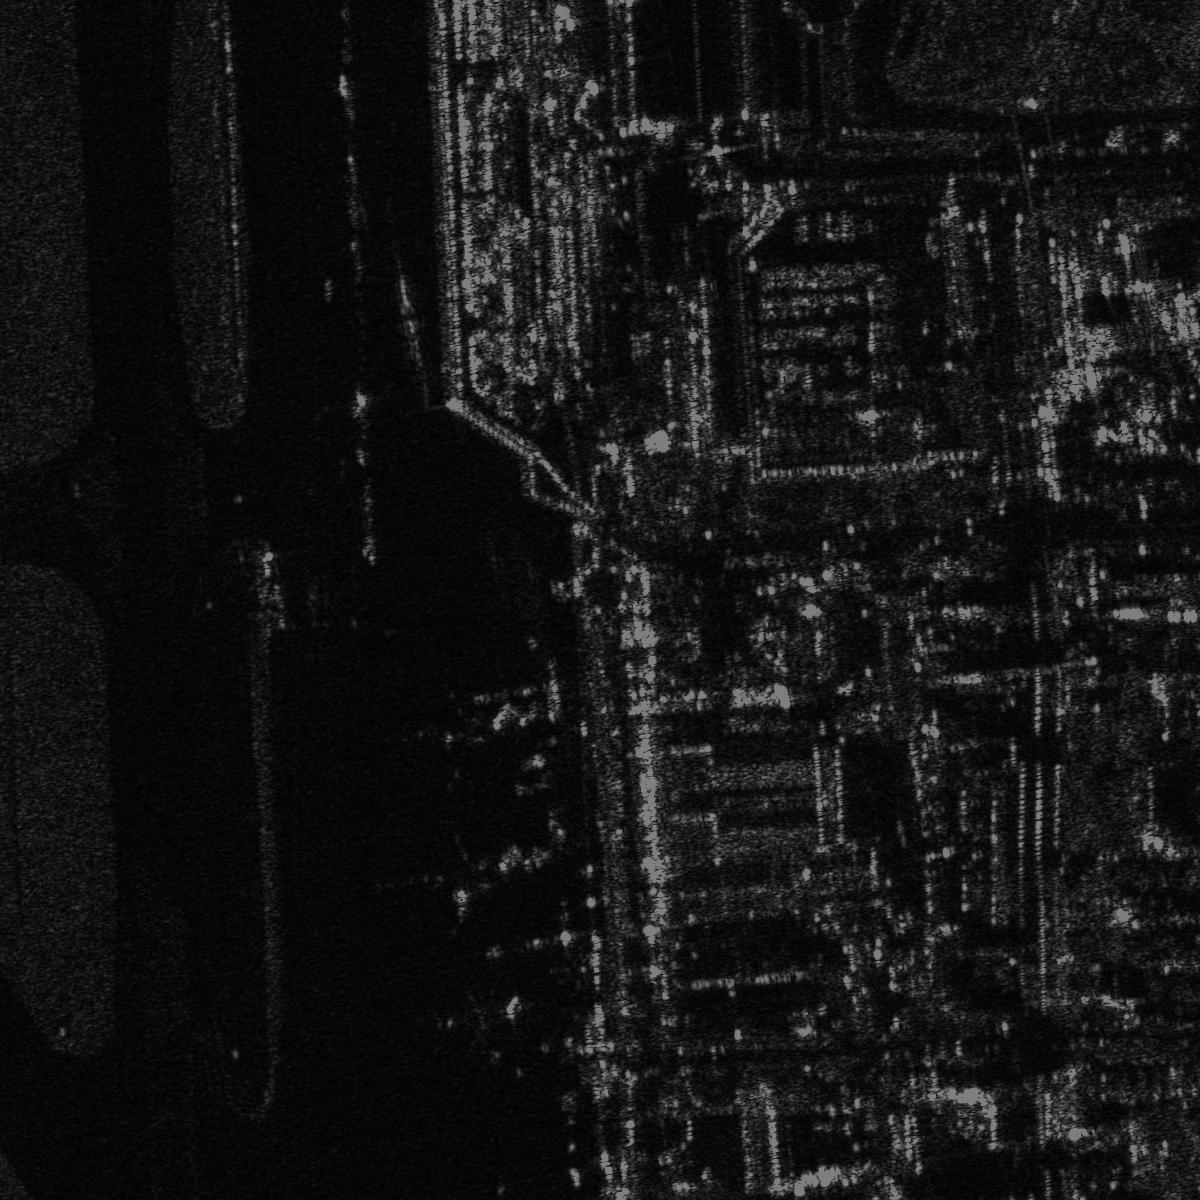ARJ21: (373, 833, 556, 926)
other: (390, 689, 535, 780), (403, 987, 546, 1058)
